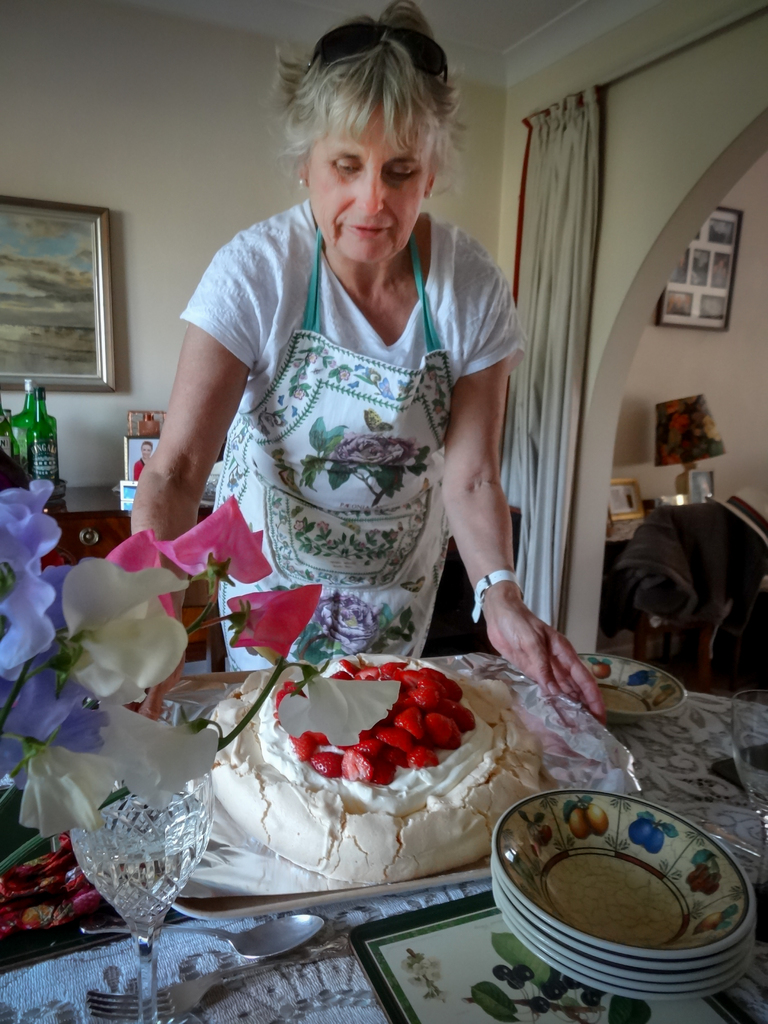plate: (492, 790, 752, 961)
